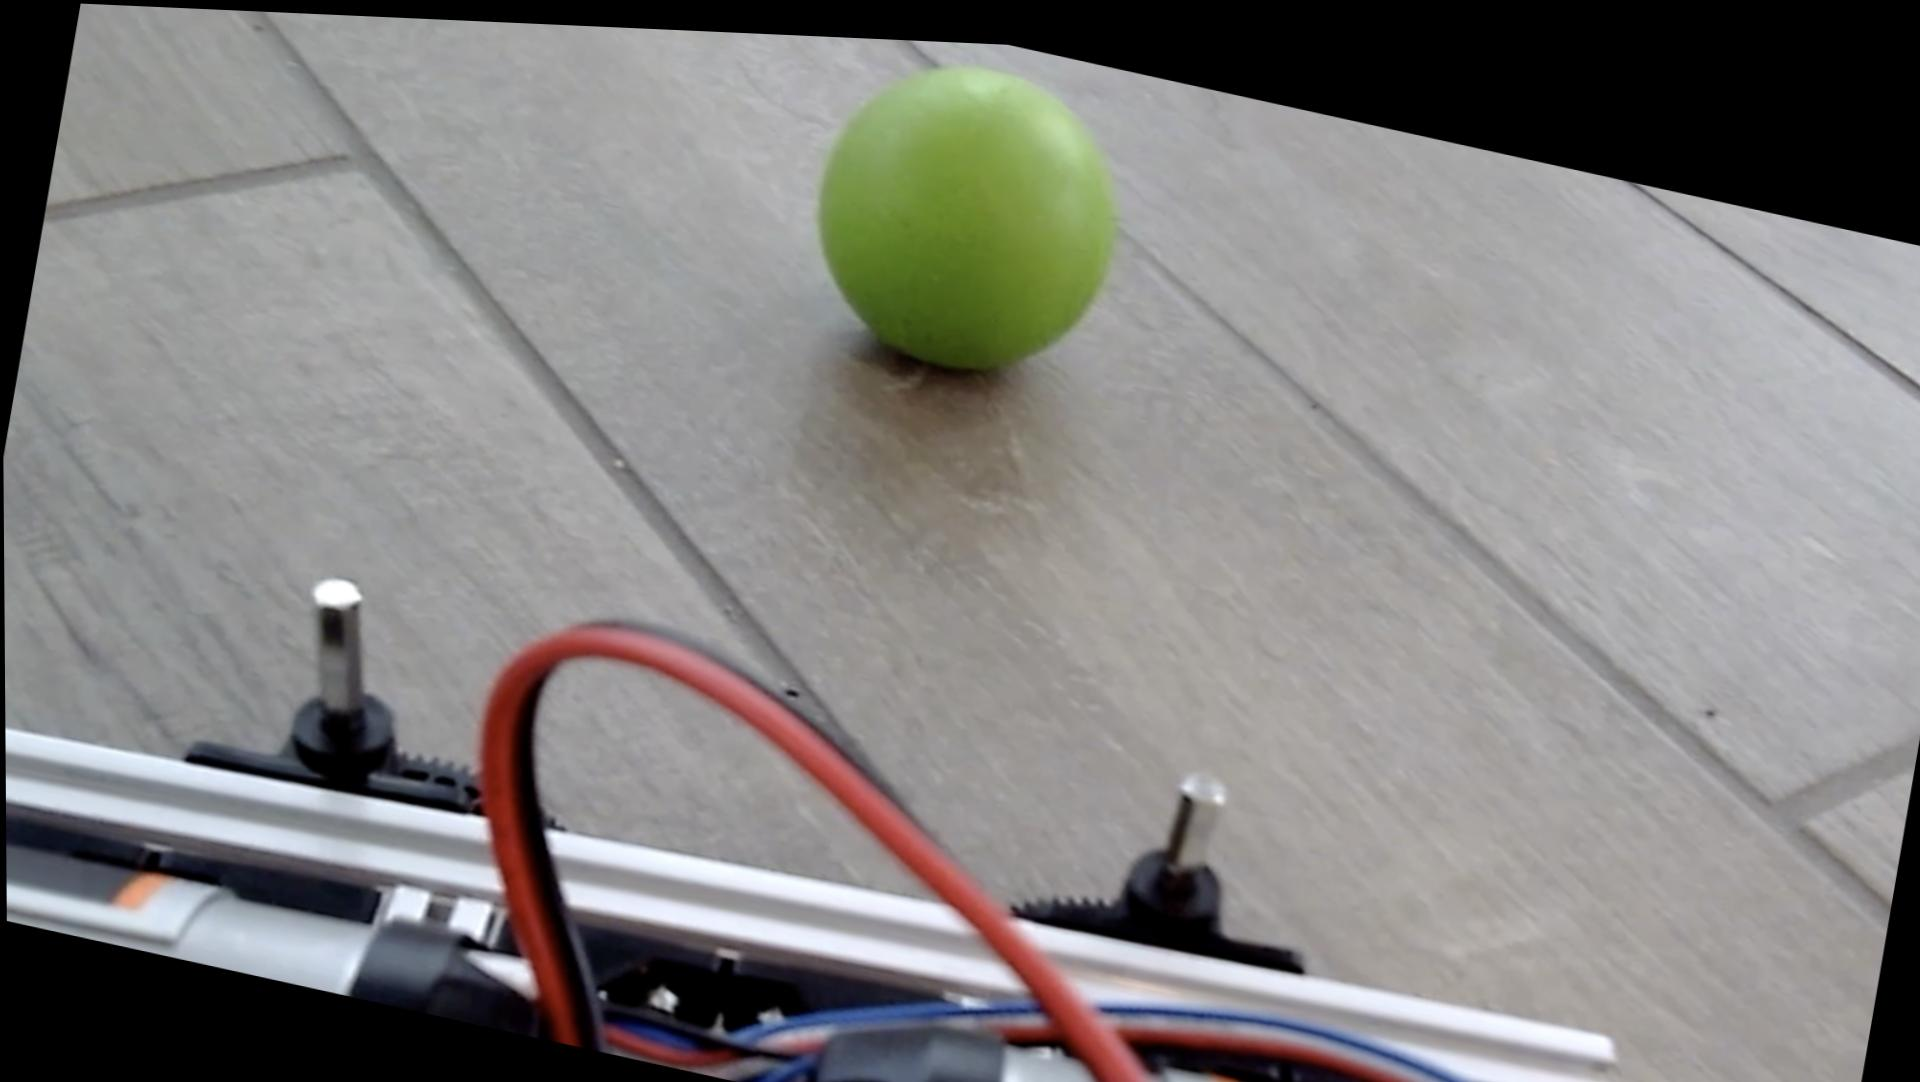greenball: (789, 28, 1141, 393)
